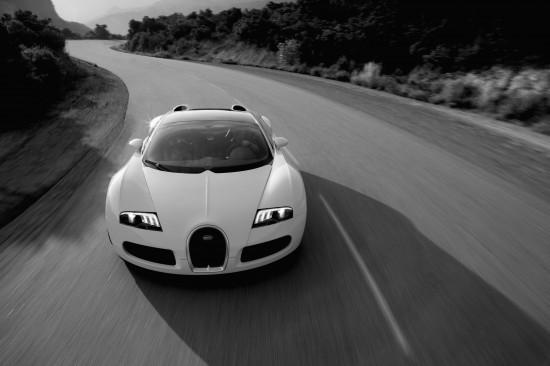car: (108, 102, 307, 277)
